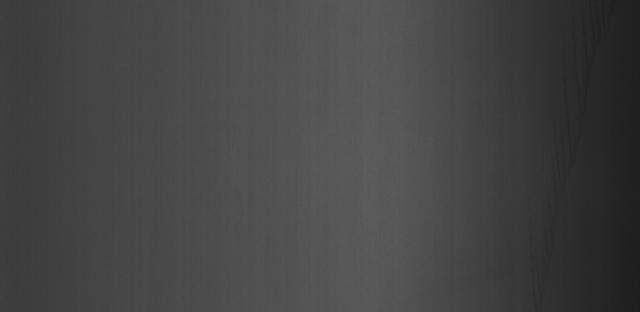water_spot: (520, 19, 616, 302)
